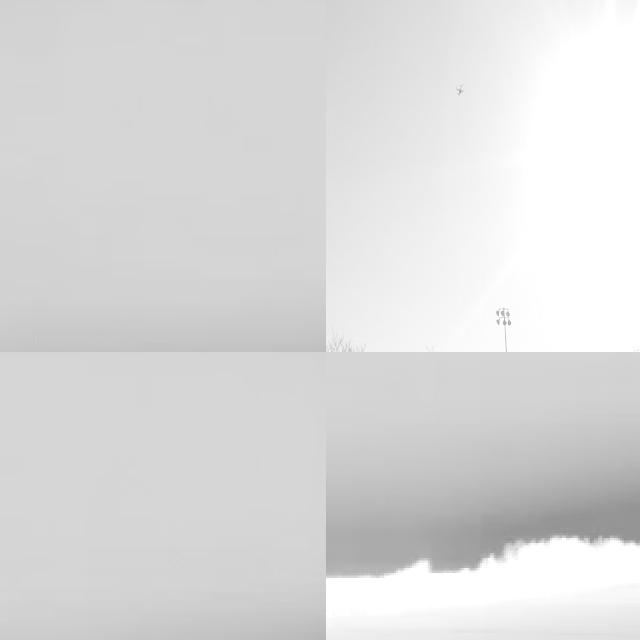drone: (454, 77, 468, 98)
